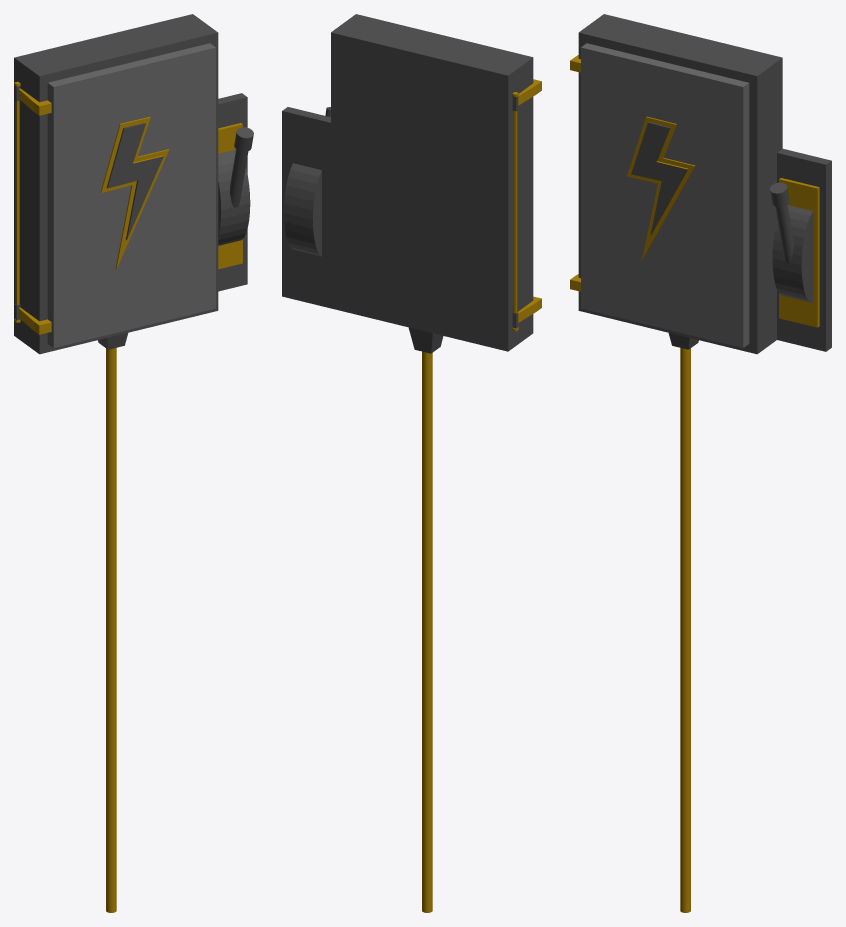
File: powerbox 1.fbx
The picture shows the model from 3 angles, left to right: view 1: azimuth 30°, elevation 25°; view 2: azimuth 150°, elevation 25°; view 3: azimuth 330°, elevation 25°; orthographic projection.
Parts seen in each view (by area): view 1: Cylinder.001, Cylinder; view 2: Cylinder.001; view 3: Cylinder.001, Cylinder.
Part boxes in pixels (bbox=[...]): Cylinder.001: bbox=[14, 14, 250, 912]; Cylinder: bbox=[230, 127, 253, 207]; Cylinder.001: bbox=[282, 14, 541, 912]; Cylinder.001: bbox=[570, 14, 831, 912]; Cylinder: bbox=[770, 182, 793, 262].
Bounding box in the file's own units: 260 × 929 × 81.93.
